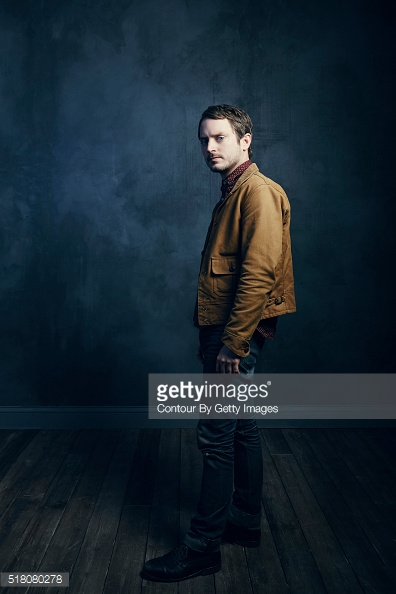em pe: (172, 104, 301, 373)
